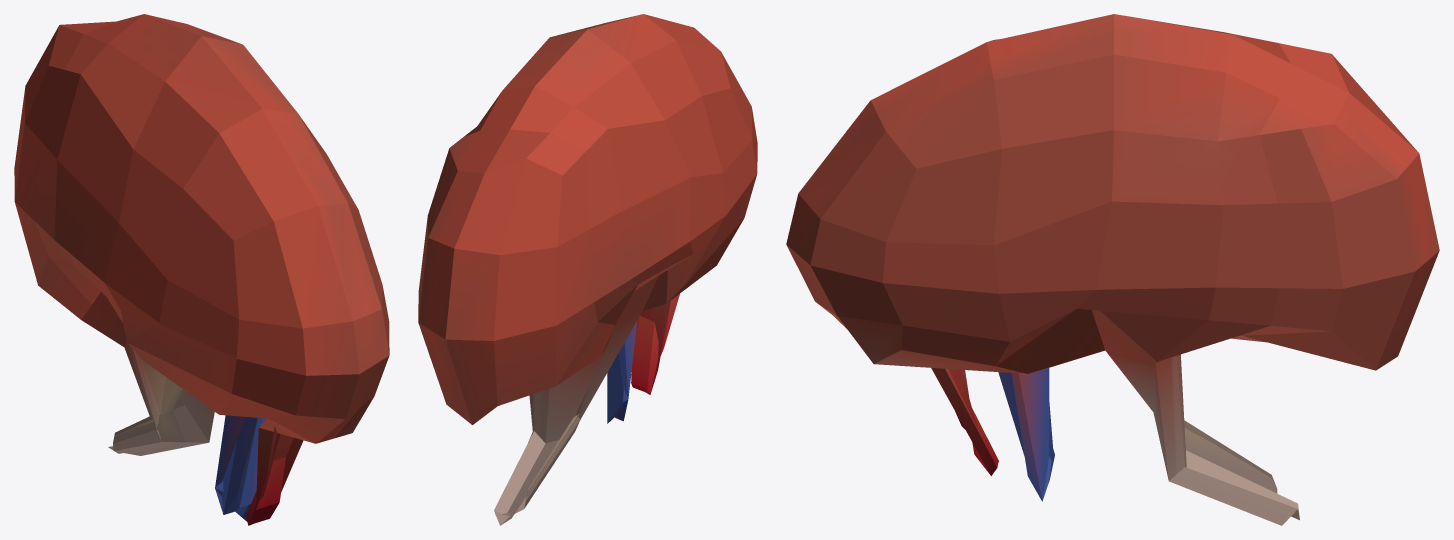
Rendered from rinon.fbx.
3 views of the same model, side by side, from view 1: azimuth 30°, elevation 25°; view 2: azimuth 150°, elevation 25°; view 3: azimuth 270°, elevation 25° (orthographic). The views are drawn at different scales.
Parts seen in each view (by area): view 1: Cube; view 2: Cube; view 3: Cube.
Boxes of the visible parts, x1,y1,x2,y2 form: Cube: (14, 14, 389, 525); Cube: (418, 14, 757, 525); Cube: (786, 14, 1439, 525).
Bounding box in the file's own units: 42.74 × 94.29 × 111.
